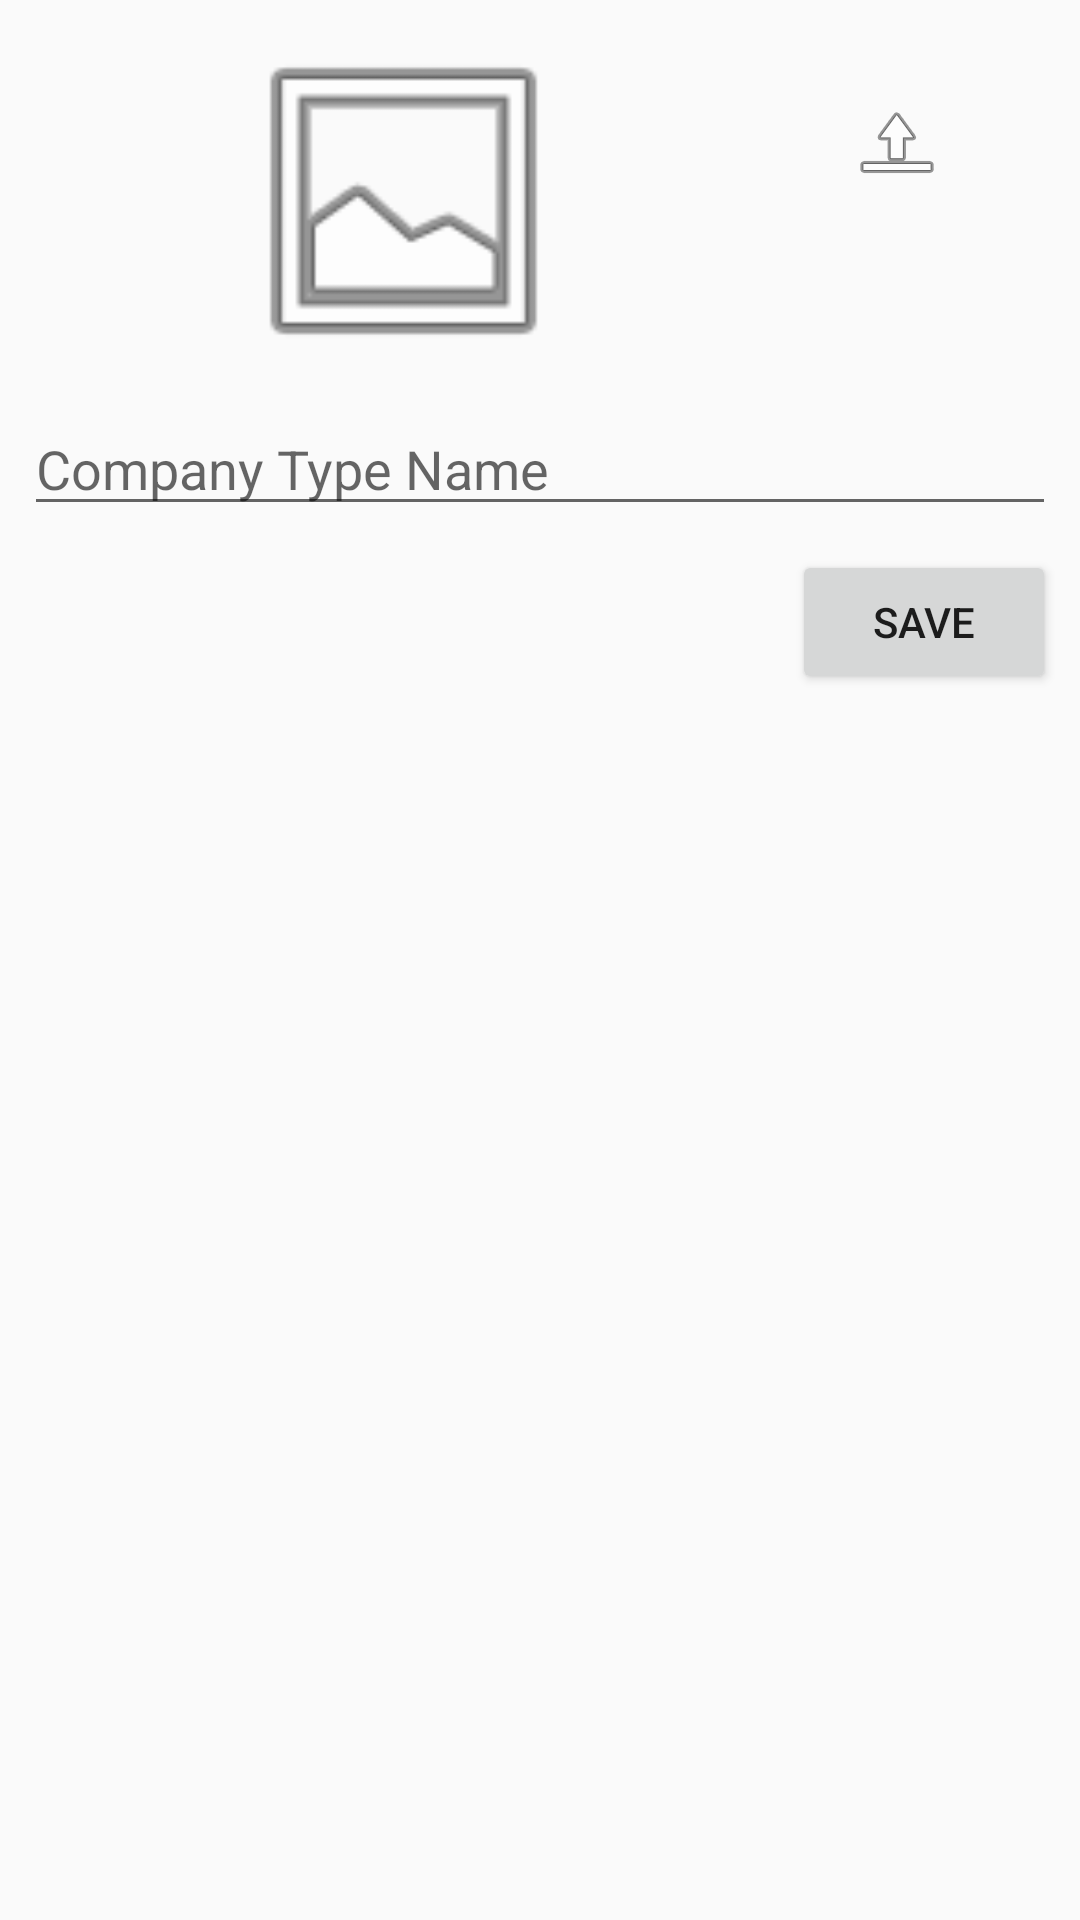

Where to tap for icons on this 1080 x 1920 app screen, as point (x, y):
gallery: point (403, 201)
upload: point (897, 142)
